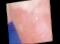plaque psoriasis: (5, 0, 55, 44)
